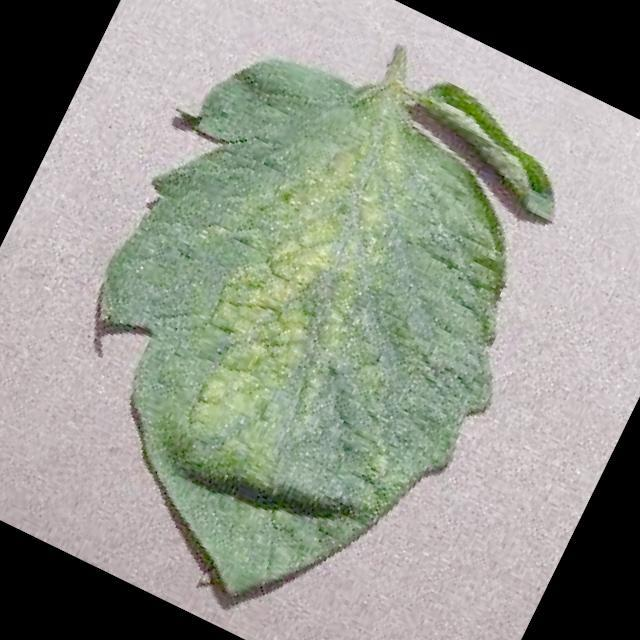Tomato spider mites leaf: (0, 0, 606, 640)
